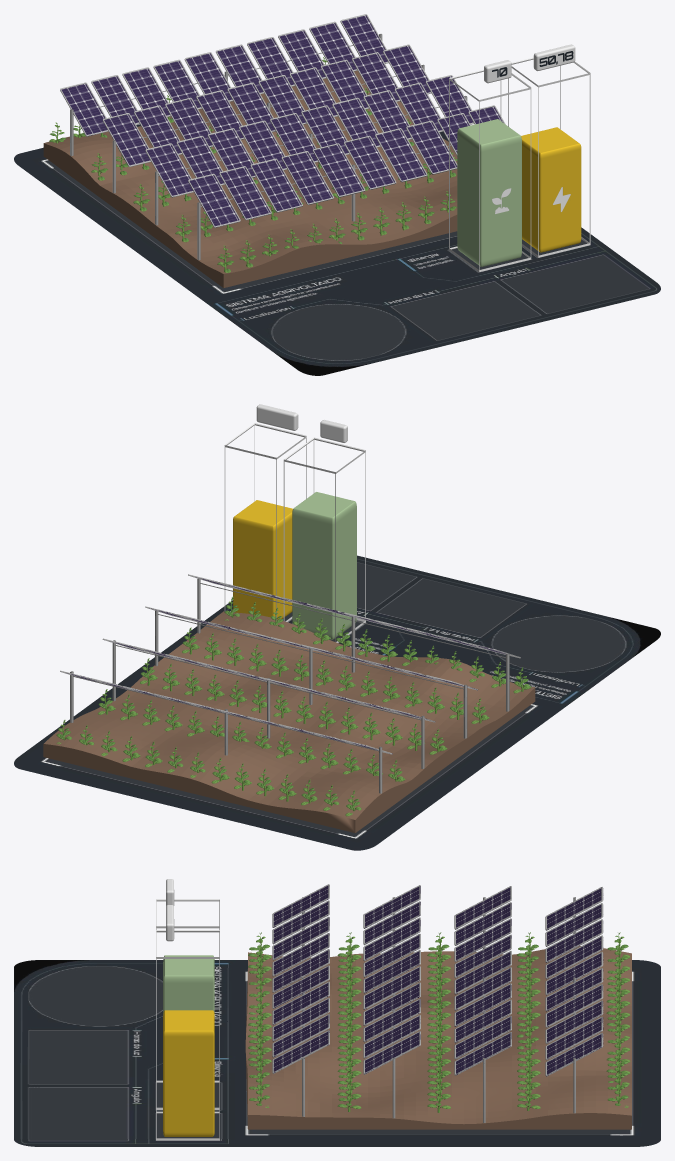
File: chile+invierno+30.glb
The picture shows the model from 3 angles, top to bottom: view 1: azimuth 30°, elevation 25°; view 2: azimuth 150°, elevation 25°; view 3: azimuth 270°, elevation 25°; orthographic projection. The views are drawn at different scales.
Parts seen in each view (by area): view 1: panelpintado (×2), Tablero, Cube, Box, Box 1, Cube.001 (×2), Cube.002, Box 2; view 2: Cube, Tablero, Box, Box 1, panelpintado (×2), Cube.001 (×2), Cube.002 (×2), Box 2; view 3: Tablero, panelpintado (×2), Cube, Box 1, Box, Cube.001 (×2), Cube.002.
Boxes of the visible parts, x1,y1,x2,y2 form: panelpintado (×2): (60, 14, 505, 227); Tablero: (14, 101, 660, 375); Cube: (43, 70, 457, 287); Box: (457, 119, 521, 266); Box 1: (521, 127, 581, 252); Cube.001 (×2): (70, 34, 531, 272); Cube.002: (508, 57, 590, 257); Box 2: (533, 44, 575, 71); Cube: (43, 611, 535, 832); Tablero: (14, 555, 660, 850); Box: (292, 492, 356, 639); Box 1: (233, 500, 292, 619); panelpintado (×2): (60, 574, 520, 754); Cube.001 (×2): (70, 437, 509, 793); Cube.002 (×2): (73, 423, 505, 751); Box 2: (256, 404, 298, 430); Tablero: (14, 960, 660, 1146); panelpintado (×2): (272, 884, 603, 1076); Cube: (245, 946, 631, 1129); Box 1: (163, 1010, 214, 1136); Box: (163, 955, 214, 1015); Cube.001 (×2): (156, 897, 575, 1122); Cube.002: (156, 930, 219, 1140).
Size of the model in its own units: 0.2418 by 0.1274 by 0.3537.
16 materials, 5 textured.
